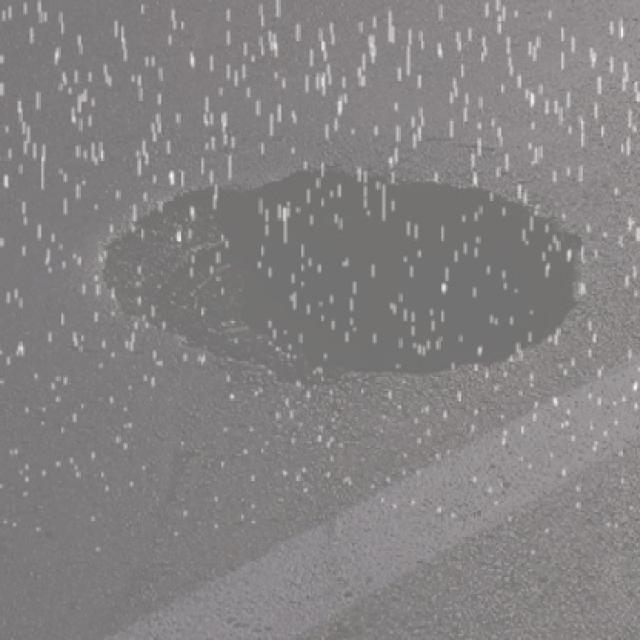Pothole: (87, 152, 597, 389)
